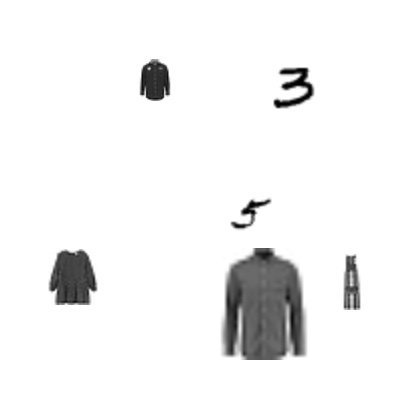3: (266, 58, 322, 114)
5: (221, 184, 277, 240)
Dress: (43, 249, 99, 305), (324, 254, 380, 310)
Shirt: (206, 248, 318, 360), (134, 59, 176, 101)
